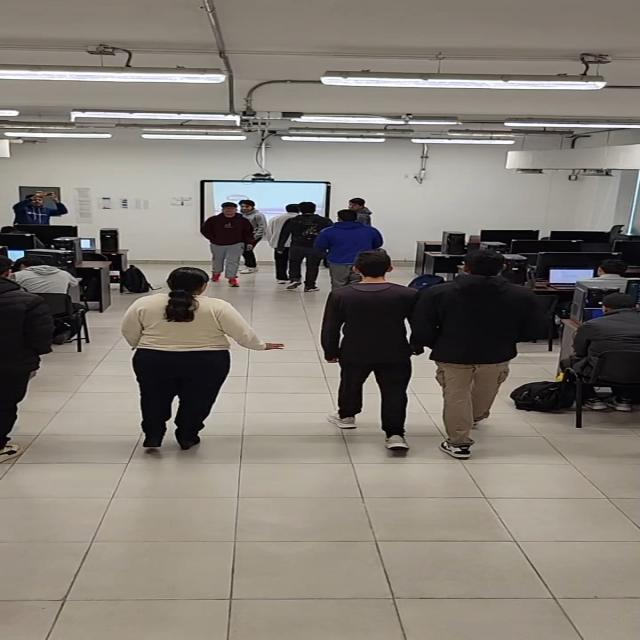Persona: (120, 266, 287, 449), (412, 250, 544, 460), (320, 250, 428, 454), (0, 255, 57, 461), (312, 209, 386, 295), (280, 201, 332, 292), (203, 202, 258, 287), (262, 202, 301, 286), (234, 198, 267, 275), (346, 196, 376, 232)
